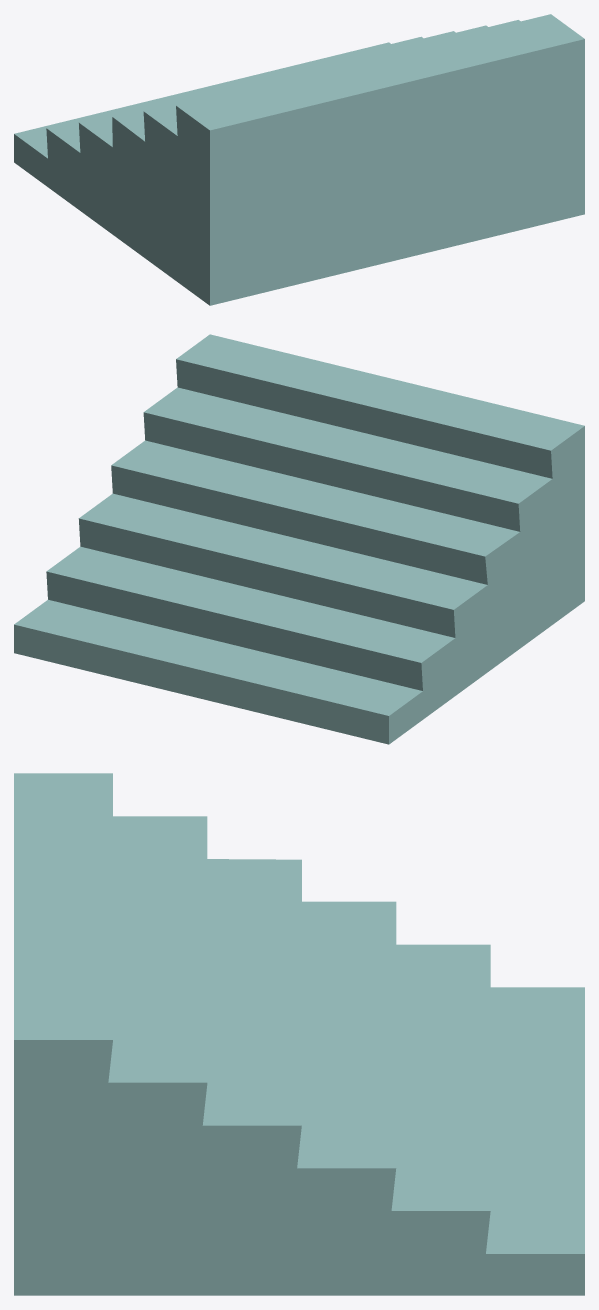
Rendered from SimpleStair.fbx.
The picture shows the model from 3 angles, top to bottom: view 1: azimuth 30°, elevation 25°; view 2: azimuth 150°, elevation 25°; view 3: azimuth 270°, elevation 25°; orthographic projection. The views are drawn at different scales.
Parts seen in each view (by area): view 1: SimpleStair; view 2: SimpleStair; view 3: SimpleStair.
Part boxes in pixels (<box>): SimpleStair: <box>14,14,584,305</box>; SimpleStair: <box>14,334,584,744</box>; SimpleStair: <box>14,773,584,1295</box>.
Bounding box in the file's own units: 201 × 89.61 × 182.
